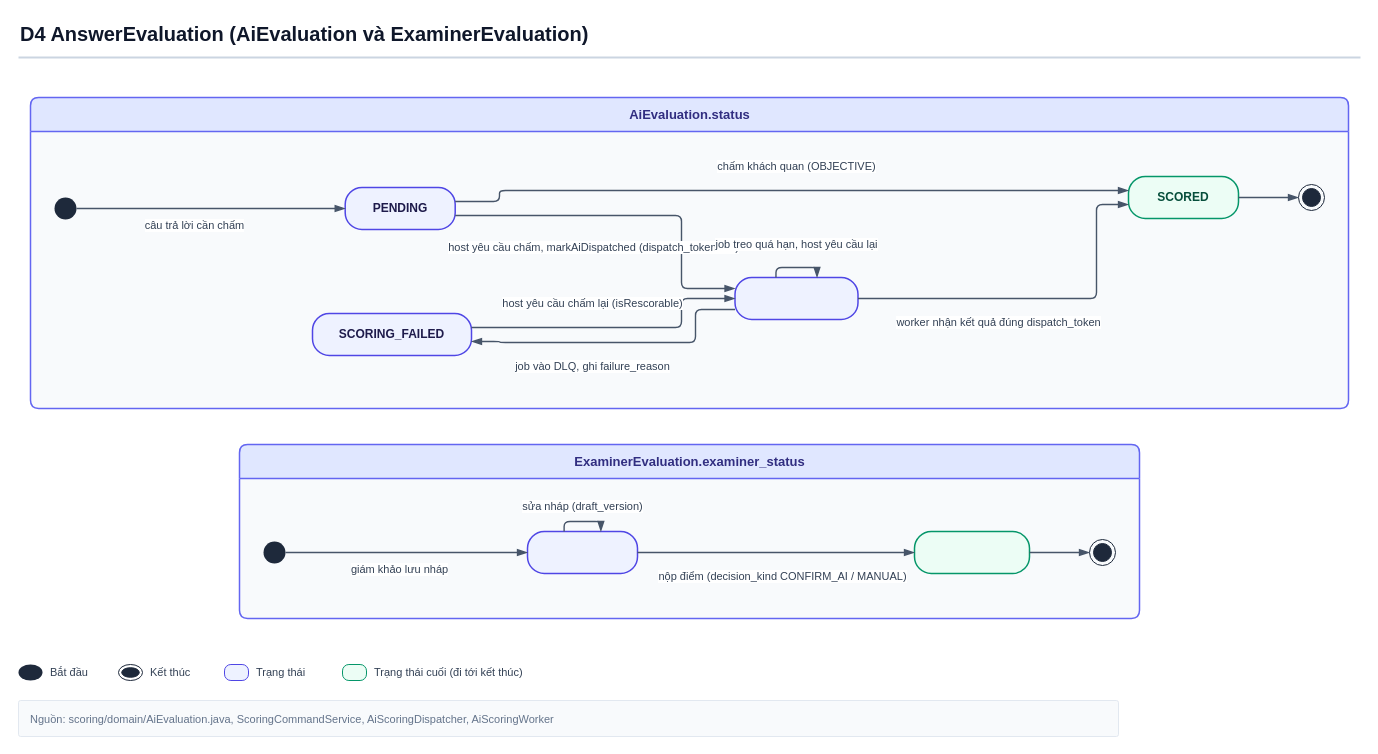
Image size: 1378x754. Some labels were removed from this diagram. Each missing label, with the centre of its shape:
"AI_SCORING" belongs at [796,298].
"DRAFT" belongs at [582,552].
"SUBMITTED" belongs at [971,552].
